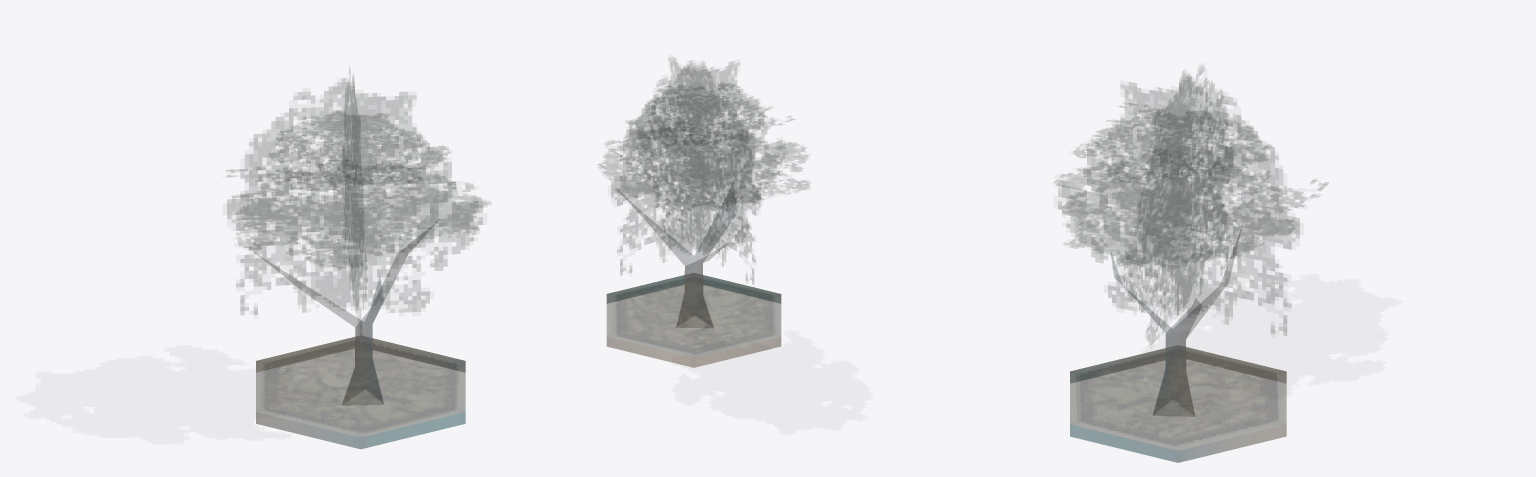
Rendered from source.glb.
3 renders of one model, left to right at view 1: azimuth 30°, elevation 25°; view 2: azimuth 150°, elevation 25°; view 3: azimuth 270°, elevation 25°, orthographic. The views are drawn at different scales.
Visible parts, largest first — view 1: obj_101bf10, obj_101cf80, state1_obj_101d8f0; view 2: obj_101bf10, obj_101cf80, state1_obj_101d8f0; view 3: obj_101bf10, obj_101cf80, state1_obj_101d8f0.
Part boxes in pixels (x1=…): obj_101bf10: x1=226, y1=68, x2=490, y2=404; obj_101cf80: x1=256, y1=337, x2=465, y2=448; state1_obj_101d8f0: x1=256, y1=337, x2=465, y2=448; obj_101bf10: x1=598, y1=57, x2=809, y2=327; obj_101cf80: x1=607, y1=275, x2=780, y2=367; state1_obj_101d8f0: x1=607, y1=275, x2=780, y2=366; obj_101bf10: x1=1054, y1=65, x2=1328, y2=416; obj_101cf80: x1=1070, y1=347, x2=1286, y2=462; state1_obj_101d8f0: x1=1070, y1=347, x2=1286, y2=462.
Bounding box in the file's own units: 52.18 × 33.93 × 49.76.
4 materials, 4 textured.
